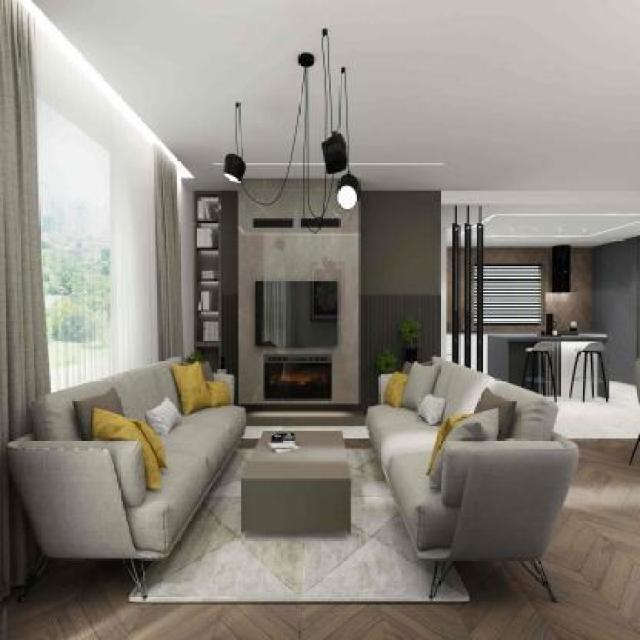Floor: (0, 380, 640, 640), (236, 417, 374, 449)
